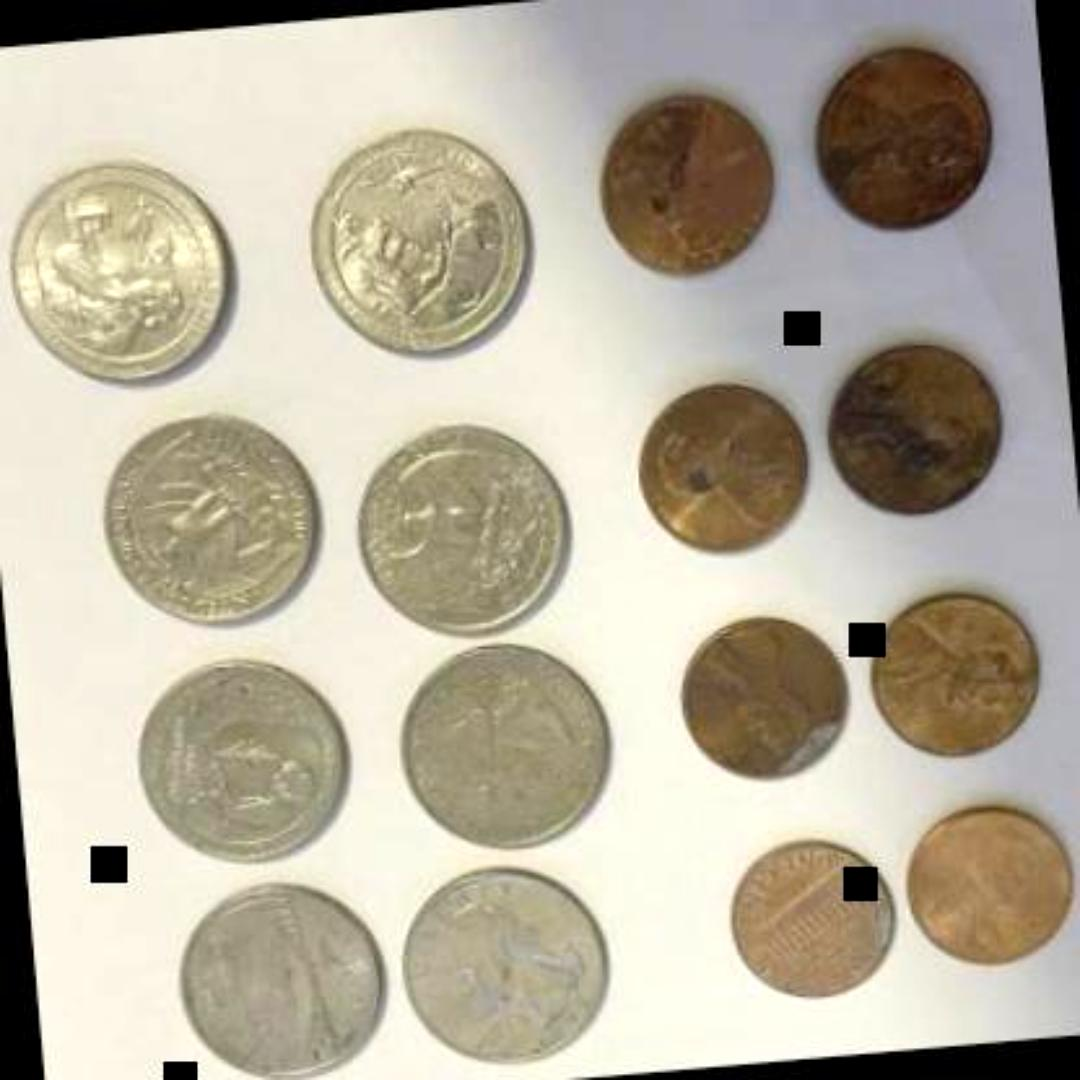Penny: (802, 29, 1004, 241), (590, 84, 788, 292), (822, 326, 1024, 528), (628, 369, 824, 571), (857, 578, 1054, 772), (675, 607, 861, 801), (722, 832, 904, 1014), (900, 798, 1080, 978)
Quarter: (294, 116, 544, 374), (0, 146, 246, 396), (90, 400, 330, 642), (348, 407, 584, 648), (129, 644, 365, 882), (390, 627, 620, 863), (387, 854, 623, 1080), (176, 872, 400, 1080)
